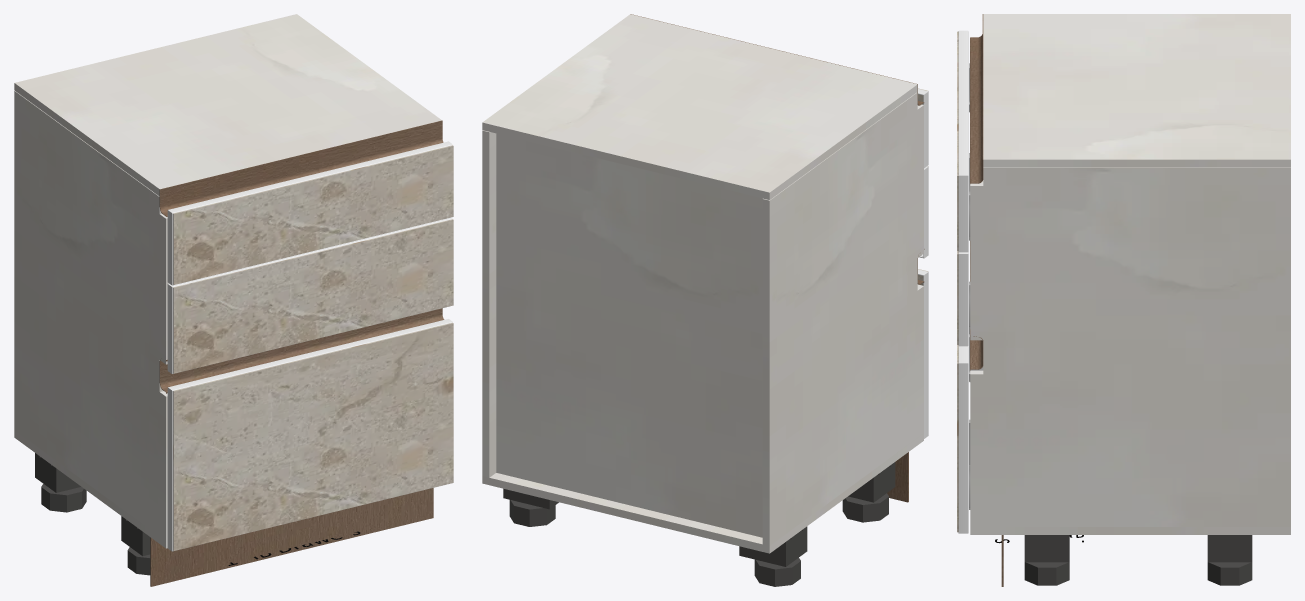
3 views of the same model, side by side, from view 1: azimuth 30°, elevation 25°; view 2: azimuth 150°, elevation 25°; view 3: azimuth 270°, elevation 25° (orthographic). The views are drawn at different scales.
Size of what is drawn, in the model's own units: 0.6 by 0.82 by 0.5809.
7 materials, 3 textured.
